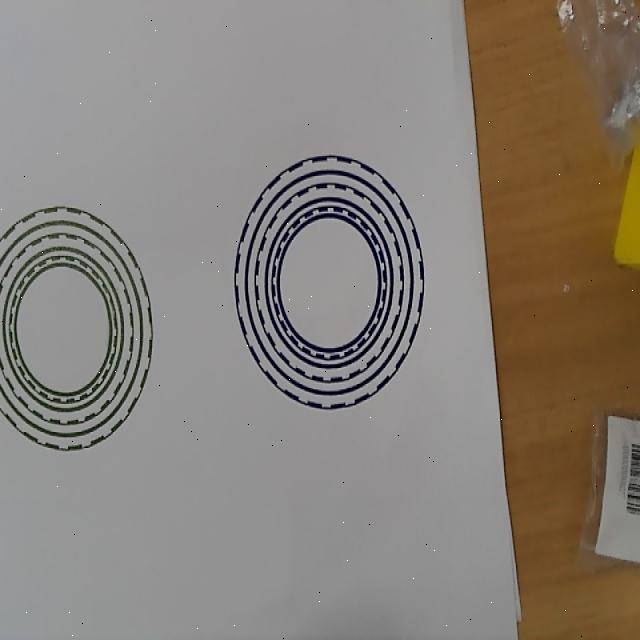b: (234, 154, 425, 412)
